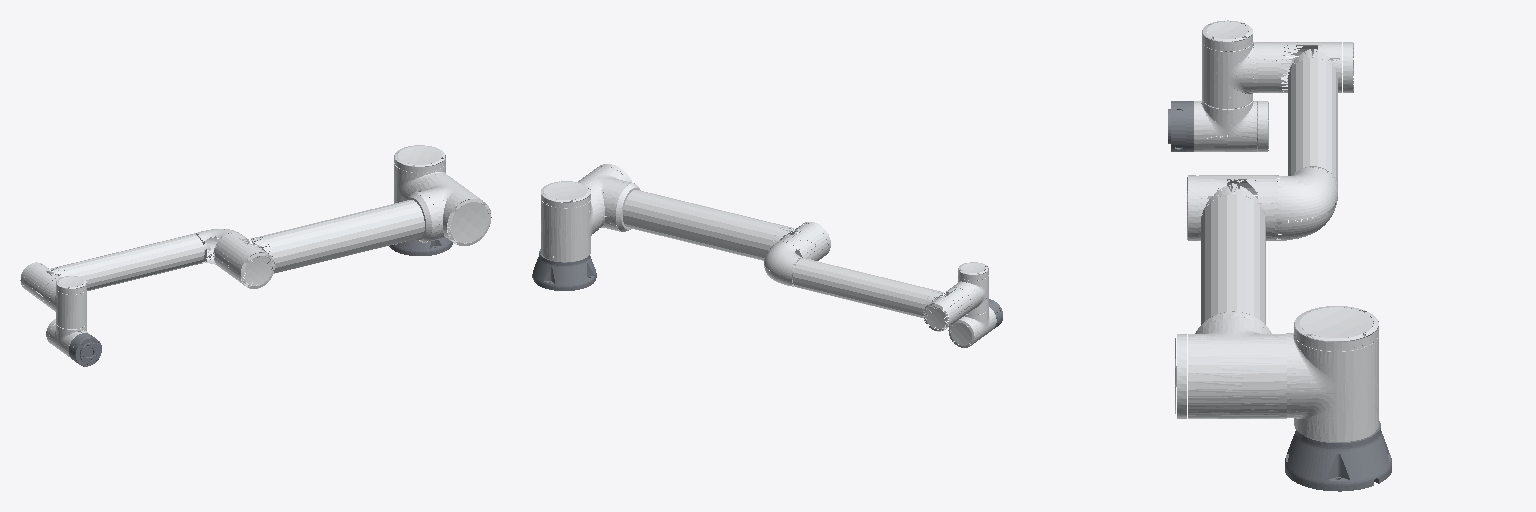
URDF robot description (fr10_v5):
<?xml version="1.0"?>
<!-- Fairino FR10, hardware V5.0 (the controller reports FR10-V1-000(V5.0)).

  Joints: exactly the controller's kinematics (GetForwardKin, checked: 0.00 mm), standard DH
    d1 = 180, a2 = -700, a3 = -586, d4 = 195, d5 = 114, d6 = 106 mm (link "flange" = tool 0).
  Meshes: Fairino's FR10 V5 collision meshes (meshes/fr10/collision), decimated; each one put
    on its link by matching it to Fairino's V6 mesh of the same link (median gap 2-5 mm). The V6 URDF in
    fairino_description (fairino10_v6) does NOT match this robot: its d4 is 159 mm (36 mm off).
  Used by: the RViz simulation (python run.py sim) and the whole-arm collision capsules
    (robot/arm.py fits one capsule around each mesh).
-->
<robot name="fr10_v5">
  <link name="base_link">
    <visual><origin xyz="0.000000 0.000000 0.000000" rpy="0.000000000 0.000000000 0.000000000"/><geometry><mesh filename="meshes/base_link.stl" scale="1 1 1"/></geometry><material name="grey"><color rgba="0.55 0.57 0.60 1"/></material></visual>
    <collision><origin xyz="0.000000 0.000000 0.000000" rpy="0.000000000 0.000000000 0.000000000"/><geometry><mesh filename="meshes/base_link.stl" scale="1 1 1"/></geometry></collision>
  </link>
  <link name="shoulder_link">
    <visual><origin xyz="0.000000 0.000000 0.000000" rpy="0.000000000 0.000000000 0.000000000"/><geometry><mesh filename="meshes/shoulder_link.stl" scale="1 1 1"/></geometry><material name="white"><color rgba="0.92 0.93 0.94 1"/></material></visual>
    <collision><origin xyz="0.000000 0.000000 0.000000" rpy="0.000000000 0.000000000 0.000000000"/><geometry><mesh filename="meshes/shoulder_link.stl" scale="1 1 1"/></geometry></collision>
  </link>
  <link name="upperarm_link">
    <visual><origin xyz="0.000000 0.000000 0.000000" rpy="0.000000000 0.000000000 1.570796327"/><geometry><mesh filename="meshes/upperarm_link.stl" scale="1 1 1"/></geometry><material name="white"><color rgba="0.92 0.93 0.94 1"/></material></visual>
    <collision><origin xyz="0.000000 0.000000 0.000000" rpy="0.000000000 0.000000000 1.570796327"/><geometry><mesh filename="meshes/upperarm_link.stl" scale="1 1 1"/></geometry></collision>
  </link>
  <link name="forearm_link">
    <visual><origin xyz="0.000000 0.000000 0.045000" rpy="0.000000000 0.000000000 0.000000000"/><geometry><mesh filename="meshes/forearm_link.stl" scale="1 1 1"/></geometry><material name="white"><color rgba="0.92 0.93 0.94 1"/></material></visual>
    <collision><origin xyz="0.000000 0.000000 0.045000" rpy="0.000000000 0.000000000 0.000000000"/><geometry><mesh filename="meshes/forearm_link.stl" scale="1 1 1"/></geometry></collision>
  </link>
  <link name="wrist1_link">
    <visual><origin xyz="0.000000 0.000000 0.045000" rpy="0.000000000 0.000000000 1.570796327"/><geometry><mesh filename="meshes/wrist1_link.stl" scale="1 1 1"/></geometry><material name="white"><color rgba="0.92 0.93 0.94 1"/></material></visual>
    <collision><origin xyz="0.000000 0.000000 0.045000" rpy="0.000000000 0.000000000 1.570796327"/><geometry><mesh filename="meshes/wrist1_link.stl" scale="1 1 1"/></geometry></collision>
  </link>
  <link name="wrist2_link">
    <visual><origin xyz="0.000000 0.000000 0.000000" rpy="0.000000000 0.000000000 0.000000000"/><geometry><mesh filename="meshes/wrist2_link.stl" scale="1 1 1"/></geometry><material name="white"><color rgba="0.92 0.93 0.94 1"/></material></visual>
    <collision><origin xyz="0.000000 0.000000 0.000000" rpy="0.000000000 0.000000000 0.000000000"/><geometry><mesh filename="meshes/wrist2_link.stl" scale="1 1 1"/></geometry></collision>
  </link>
  <link name="wrist3_link">
    <visual><origin xyz="0.000000 0.000000 0.000000" rpy="0.000000000 0.000000000 0.000000000"/><geometry><mesh filename="meshes/wrist3_link.stl" scale="1 1 1"/></geometry><material name="grey"><color rgba="0.55 0.57 0.60 1"/></material></visual>
    <collision><origin xyz="0.000000 0.000000 0.000000" rpy="0.000000000 0.000000000 0.000000000"/><geometry><mesh filename="meshes/wrist3_link.stl" scale="1 1 1"/></geometry></collision>
  </link>
  <link name="flange"/>
  <joint name="j1" type="revolute">
    <parent link="base_link"/><child link="shoulder_link"/>
    <origin xyz="0.000000 0.000000 0.000000" rpy="0.000000000 0.000000000 0.000000000"/><axis xyz="0 0 1"/>
    <limit lower="-3.0543" upper="3.0543" effort="150" velocity="3.15"/>
  </joint>
  <joint name="j2" type="revolute">
    <parent link="shoulder_link"/><child link="upperarm_link"/>
    <origin xyz="0.000000 0.000000 0.180000" rpy="1.570796327 0.000000000 0.000000000"/><axis xyz="0 0 1"/>
    <limit lower="-4.6251" upper="1.4835" effort="150" velocity="3.15"/>
  </joint>
  <joint name="j3" type="revolute">
    <parent link="upperarm_link"/><child link="forearm_link"/>
    <origin xyz="-0.700000 0.000000 0.000000" rpy="0.000000000 0.000000000 0.000000000"/><axis xyz="0 0 1"/>
    <limit lower="-2.8274" upper="2.8274" effort="150" velocity="3.15"/>
  </joint>
  <joint name="j4" type="revolute">
    <parent link="forearm_link"/><child link="wrist1_link"/>
    <origin xyz="-0.586000 0.000000 0.000000" rpy="0.000000000 0.000000000 0.000000000"/><axis xyz="0 0 1"/>
    <limit lower="-4.6251" upper="1.4835" effort="150" velocity="3.15"/>
  </joint>
  <joint name="j5" type="revolute">
    <parent link="wrist1_link"/><child link="wrist2_link"/>
    <origin xyz="0.000000 0.000000 0.195000" rpy="1.570796327 0.000000000 0.000000000"/><axis xyz="0 0 1"/>
    <limit lower="-3.0543" upper="3.0543" effort="150" velocity="3.15"/>
  </joint>
  <joint name="j6" type="revolute">
    <parent link="wrist2_link"/><child link="wrist3_link"/>
    <origin xyz="0.000000 0.000000 0.114000" rpy="-1.570796327 0.000000000 0.000000000"/><axis xyz="0 0 1"/>
    <limit lower="-3.0543" upper="3.0543" effort="150" velocity="3.15"/>
  </joint>
  <joint name="flange_joint" type="fixed">
    <parent link="wrist3_link"/><child link="flange"/><origin xyz="0.000000 0.000000 0.106000" rpy="0.000000000 0.000000000 0.000000000"/>
  </joint>
</robot>

--- Render facts (derived) ---
Views: 3 orthographic renders of the robot side by side, from view 1: azimuth 30°, elevation 25°; view 2: azimuth 150°, elevation 25°; view 3: azimuth 270°, elevation 25°.
Robot: fr10_v5 — 8 links, 7 joints (6 revolute, 1 fixed); root link base_link; default pose: every joint at zero.
Links seen in each view (by area): view 1: upperarm_link, forearm_link, shoulder_link, wrist1_link, wrist3_link, base_link, wrist2_link; view 2: upperarm_link, forearm_link, shoulder_link, base_link, wrist1_link, wrist2_link; view 3: upperarm_link, shoulder_link, forearm_link, wrist1_link, base_link, wrist2_link, wrist3_link.
Link boxes in pixels (x1,y1,x2,y2): upperarm_link: [215, 174, 491, 288]; forearm_link: [20, 229, 247, 303]; shoulder_link: [394, 145, 445, 203]; wrist1_link: [43, 276, 86, 328]; wrist3_link: [69, 333, 101, 366]; base_link: [389, 238, 452, 255]; wrist2_link: [46, 319, 88, 357]; upperarm_link: [563, 164, 830, 260]; forearm_link: [764, 241, 970, 331]; shoulder_link: [541, 181, 602, 261]; base_link: [532, 249, 596, 290]; wrist1_link: [945, 262, 988, 314]; wrist2_link: [948, 307, 996, 347]; upperarm_link: [1175, 175, 1288, 418]; shoulder_link: [1286, 306, 1378, 441]; forearm_link: [1275, 42, 1353, 240]; wrist1_link: [1202, 20, 1278, 108]; base_link: [1285, 421, 1391, 491]; wrist2_link: [1194, 90, 1268, 151]; wrist3_link: [1168, 101, 1193, 151].
Size in the robot's own frame: 1.43 by 0.396 by 0.2825 metres.
7 mesh visuals loaded from 7 distinct referenced files (7 binary STL).
